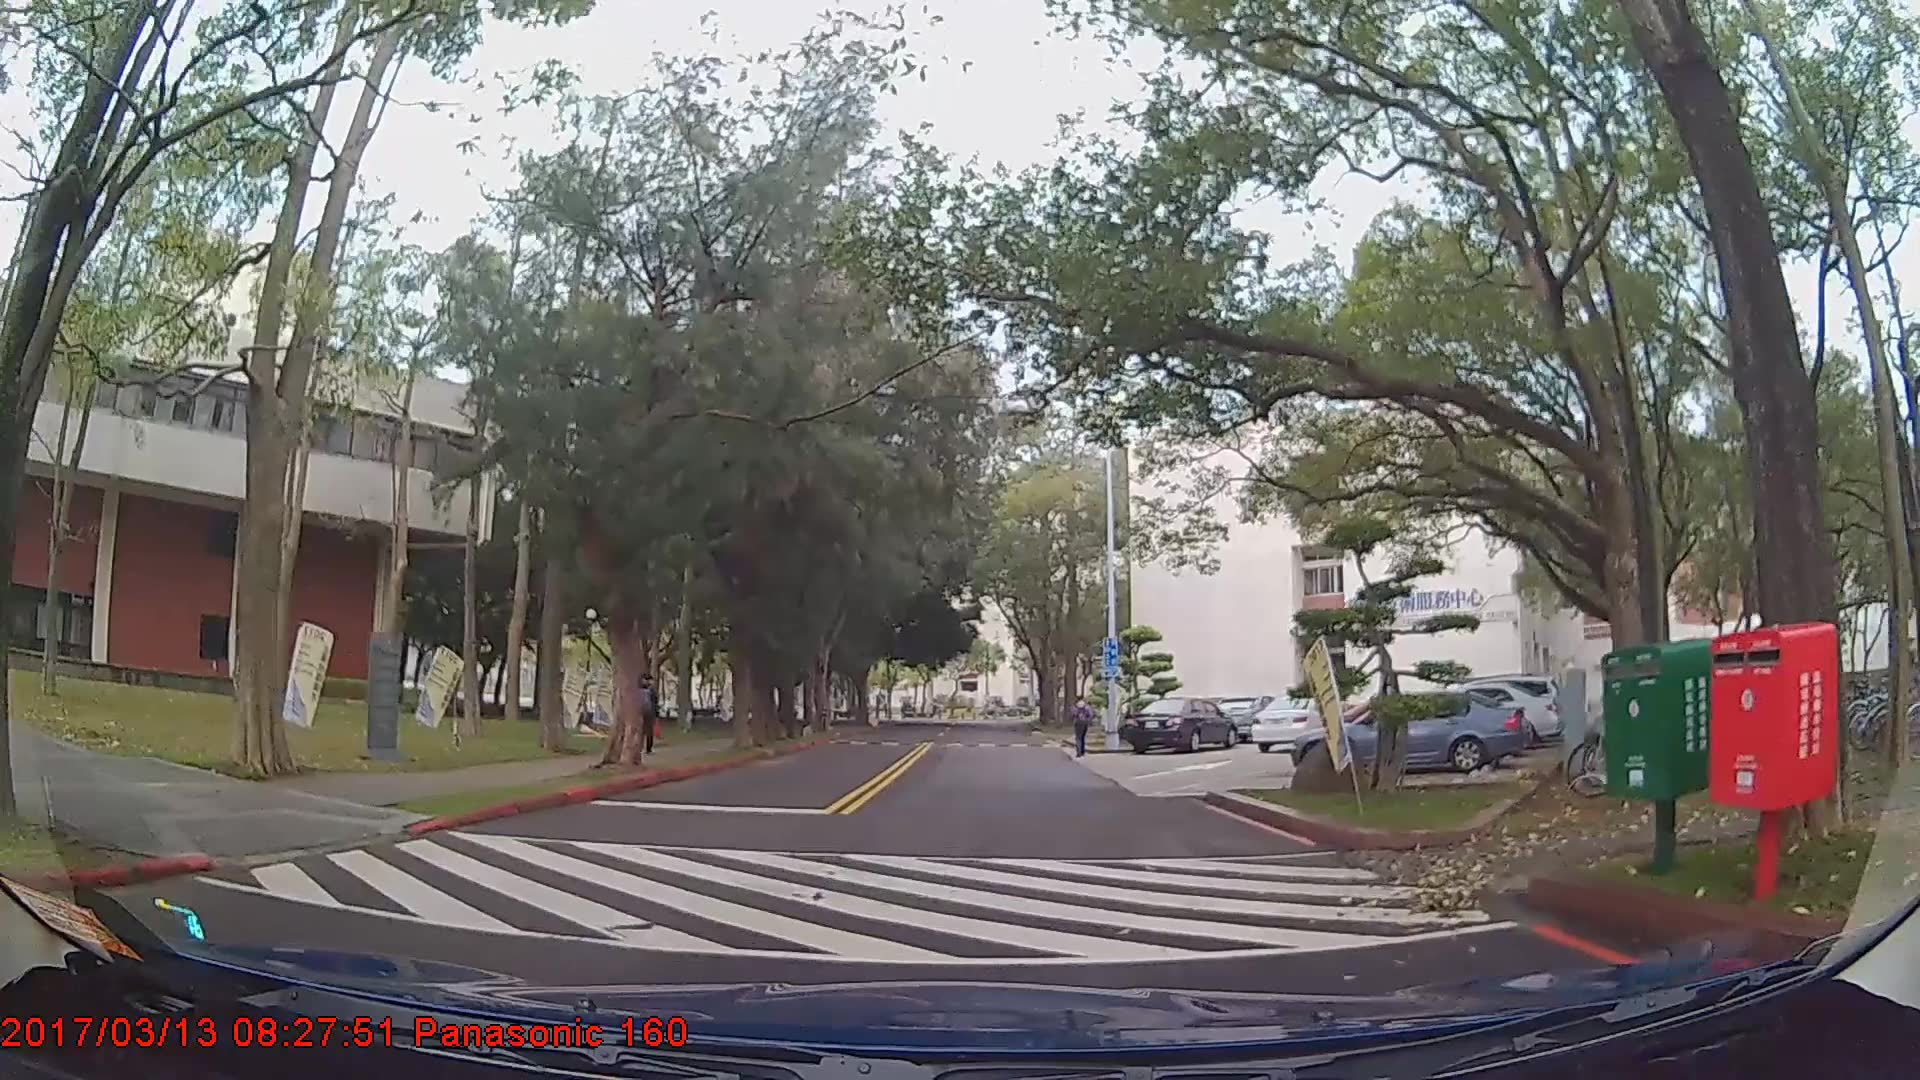pedestrian: (630, 672, 662, 755), (1068, 693, 1097, 758)
vehicle: (1293, 687, 1529, 778), (1400, 680, 1559, 747), (1120, 697, 1236, 754), (1250, 692, 1344, 753)
